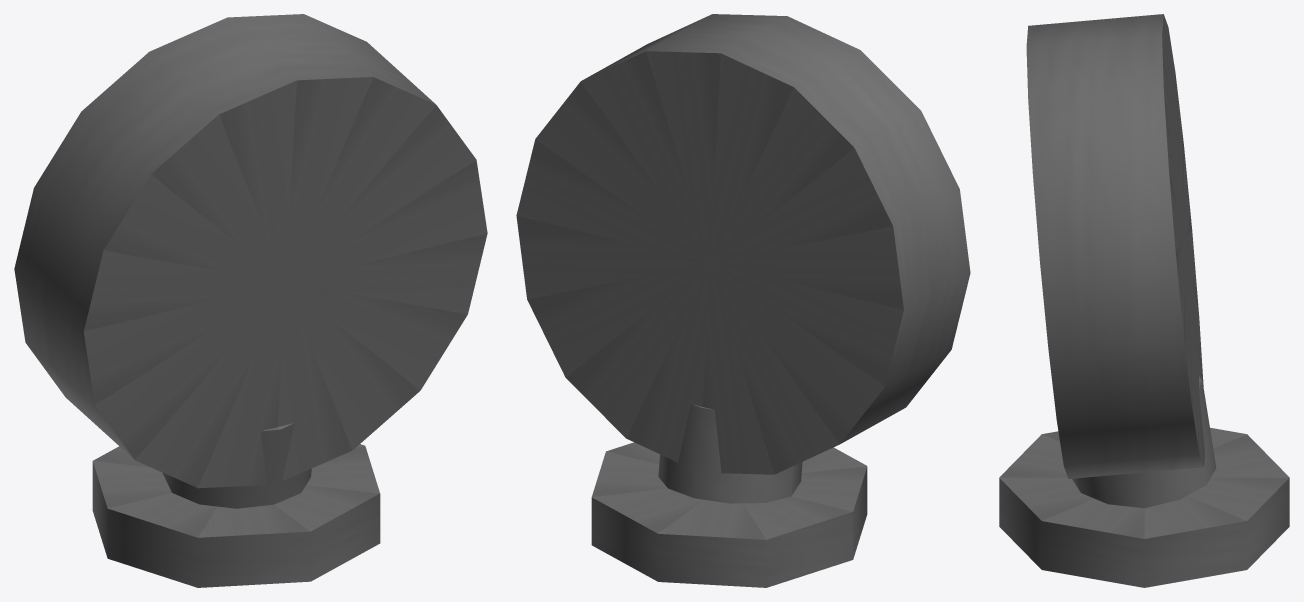
File: mastarmcurve_8x2_c8_down.obj
3 views of the same model, side by side, from view 1: azimuth 30°, elevation 25°; view 2: azimuth 150°, elevation 25°; view 3: azimuth 270°, elevation 25° (orthographic). The views are drawn at different scales.
Visible parts, largest first — view 1: mastarm_8x2_c8_down; view 2: mastarm_8x2_c8_down; view 3: mastarm_8x2_c8_down.
Part boxes in pixels (left/top/right/bottom): mastarm_8x2_c8_down: left=14, top=14, right=487, bottom=587; mastarm_8x2_c8_down: left=516, top=14, right=970, bottom=587; mastarm_8x2_c8_down: left=999, top=14, right=1289, bottom=587.
Size of the model in its own units: 0.6269 by 0.7464 by 0.4.
